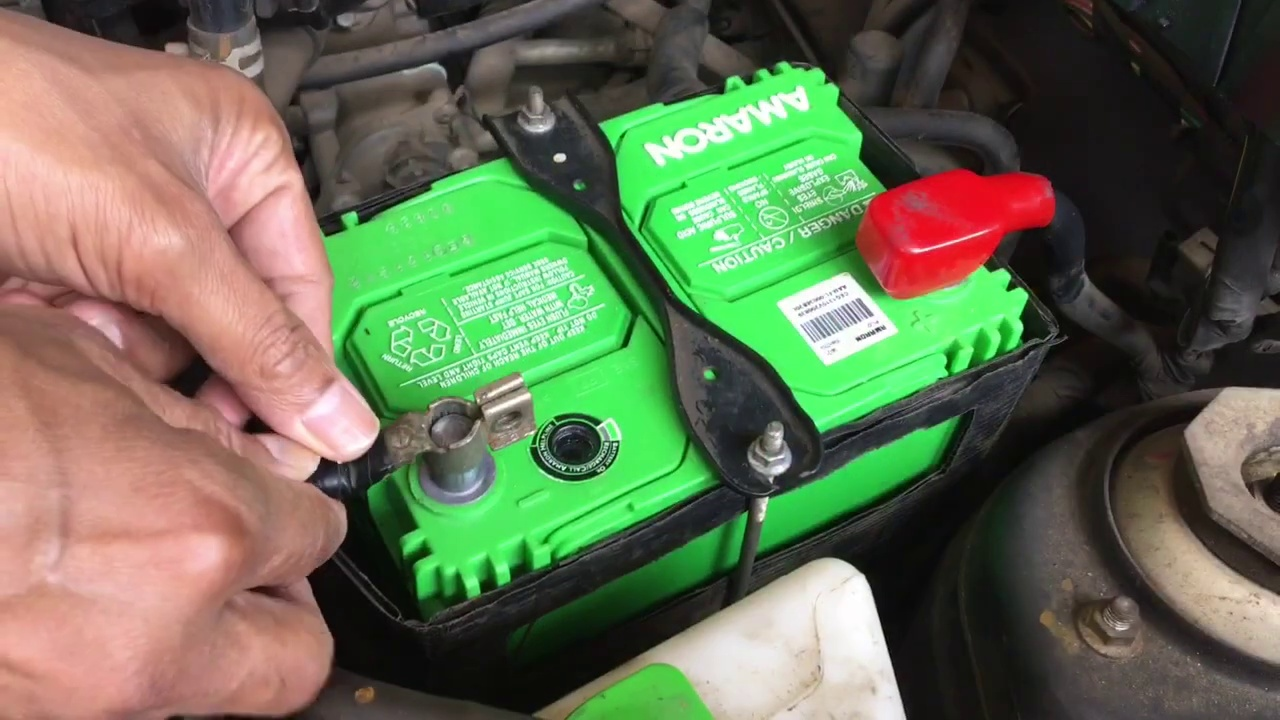battery: (276, 79, 1028, 564)
neg_connected: (370, 344, 548, 535)
neg_touched: (186, 258, 510, 572)
pos_connected: (833, 127, 1082, 324)
